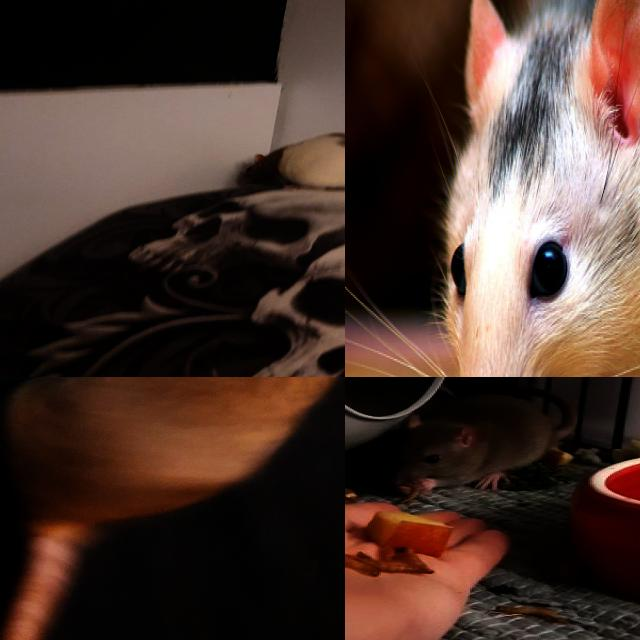rat: (404, 0, 640, 377), (4, 377, 345, 526), (386, 391, 557, 504), (235, 131, 345, 193)
